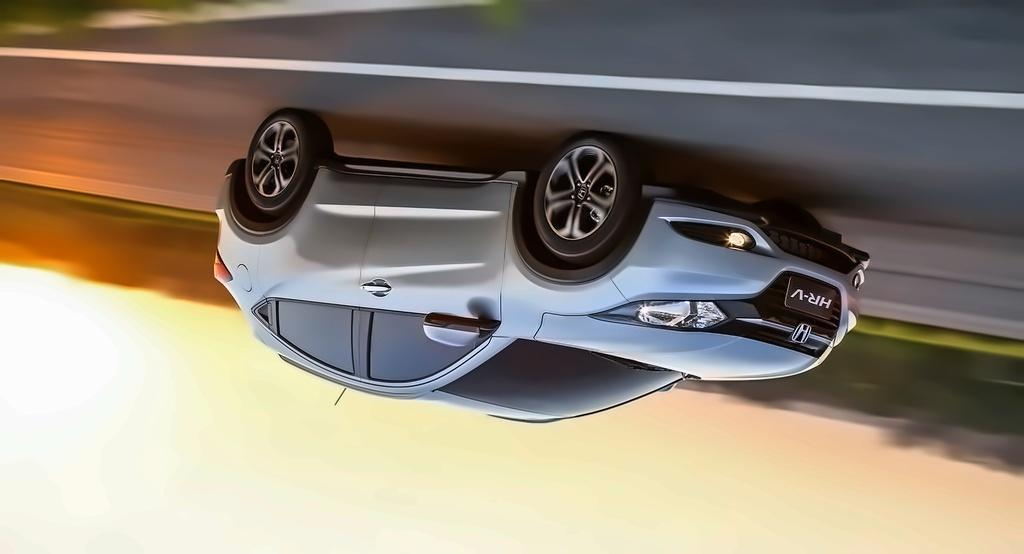Car hood: (529, 310, 829, 386)
Fender - -F-L-: (485, 174, 627, 346)
Fender - -R-L-: (204, 176, 285, 320)
Front bumper: (610, 187, 882, 342)
Headlight - -L-: (591, 298, 729, 334)
Passenger-s door - -F-L-: (350, 146, 516, 405)
Passenger-s door - -R-L-: (253, 144, 390, 401)
Side bumper - -L-: (306, 147, 527, 215)
Side mirror - -L-: (418, 311, 504, 351)
